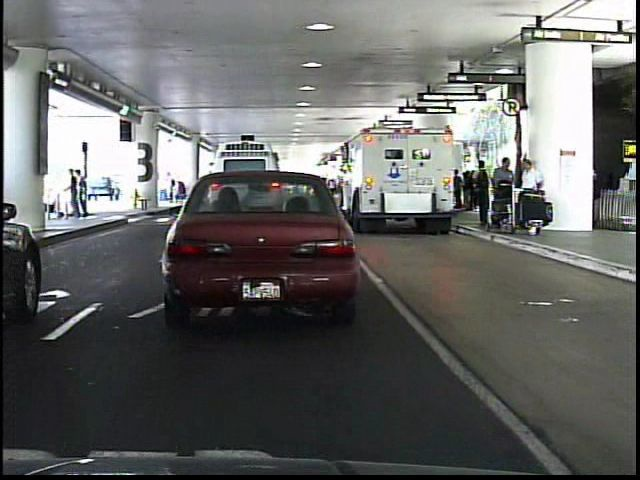person: (57, 167, 77, 223)
